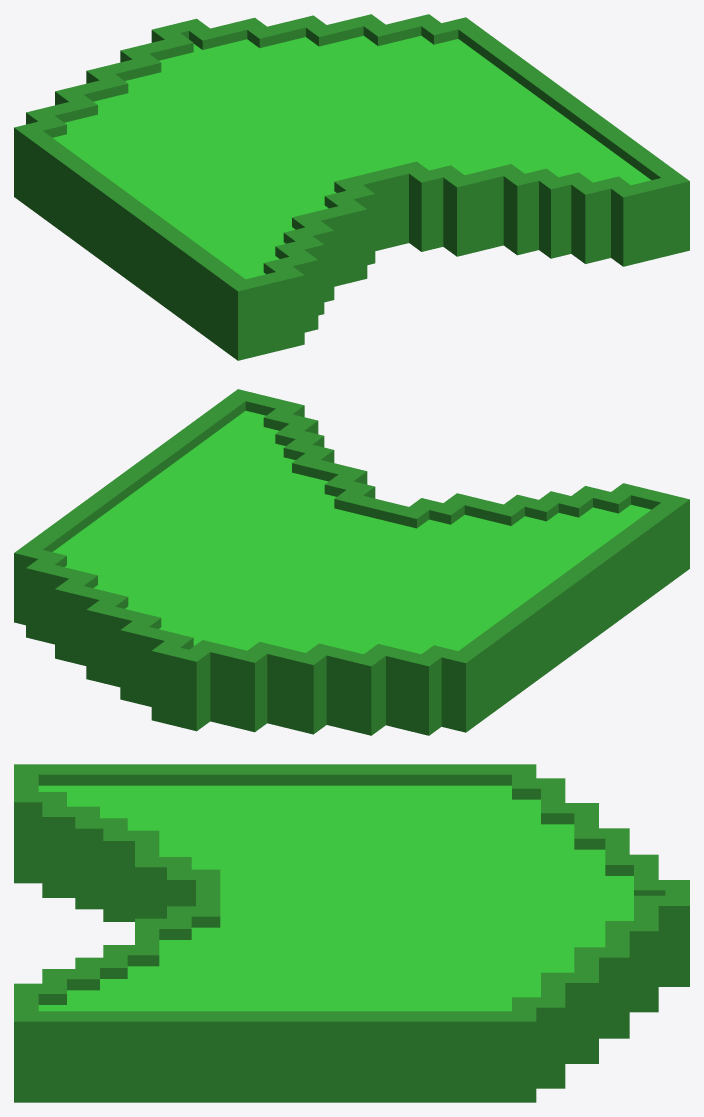
The model's file is LotusLeaf.fbx.
The picture shows the model from 3 angles, top to bottom: view 1: azimuth 30°, elevation 25°; view 2: azimuth 150°, elevation 25°; view 3: azimuth 270°, elevation 25°; orthographic projection. The views are drawn at different scales.
Visible parts, largest first — view 1: Cube; view 2: Cube; view 3: Cube.
Boxes of the visible parts, x1,y1,x2,y2 form: Cube: (14,14,689,360); Cube: (14,389,689,735); Cube: (14,764,689,1102).
Bounding box in the file's own units: 396 × 58.12 × 440.
